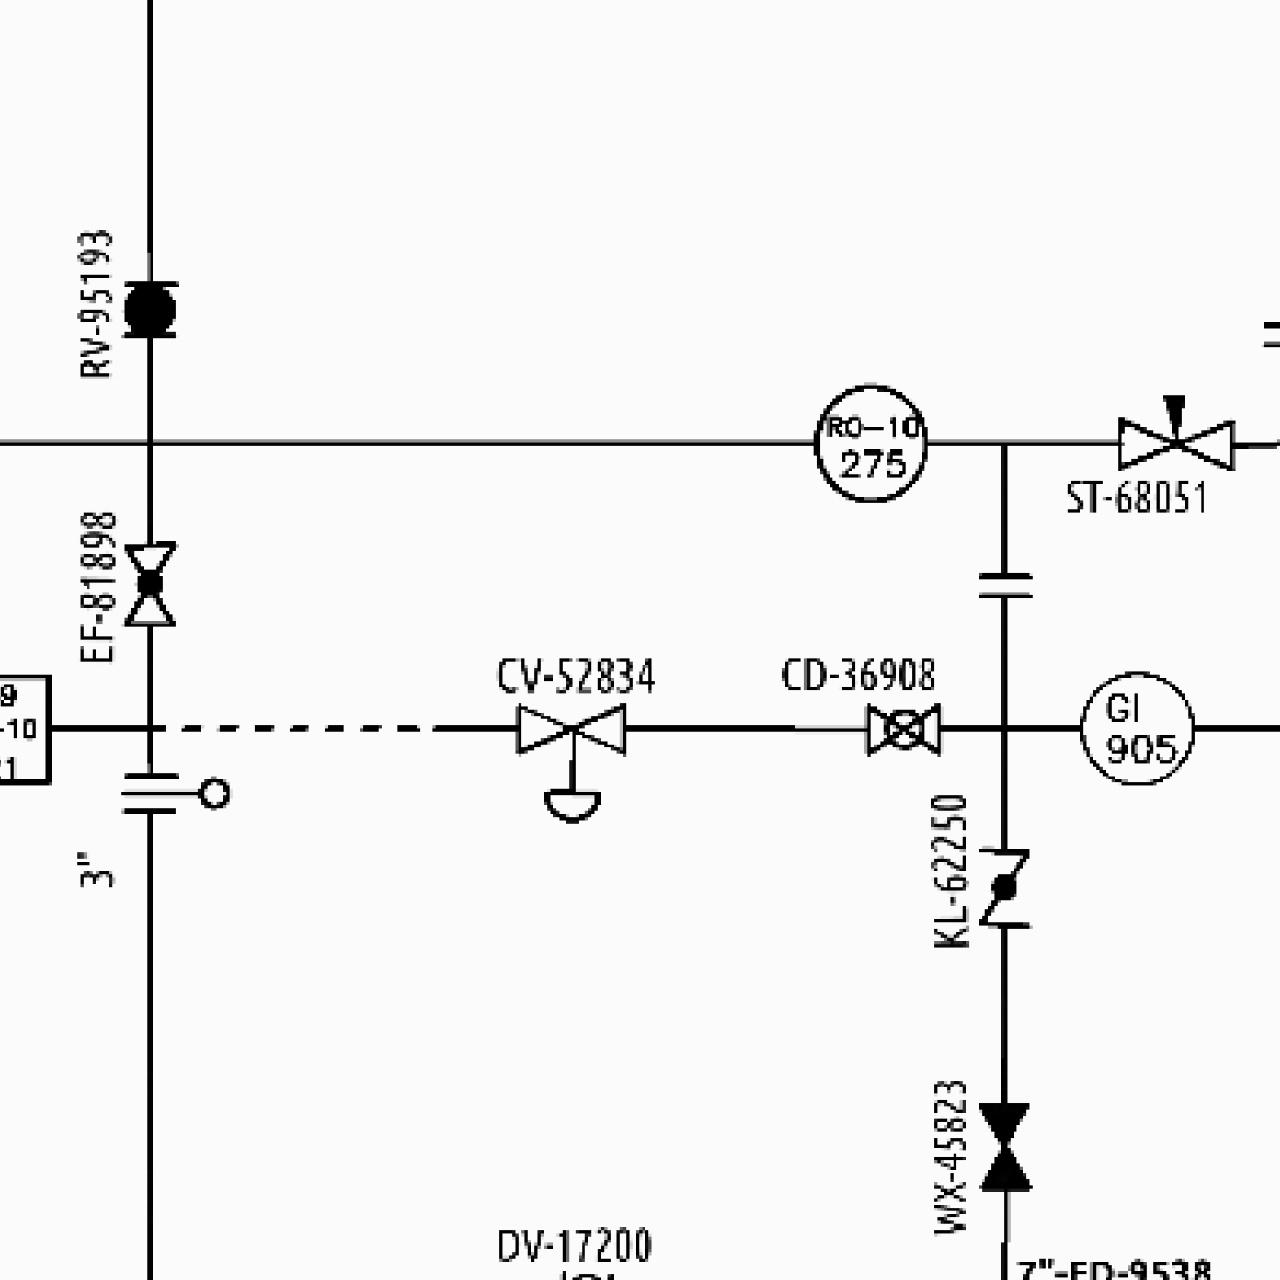Control-Panel: (806, 379, 934, 506)
